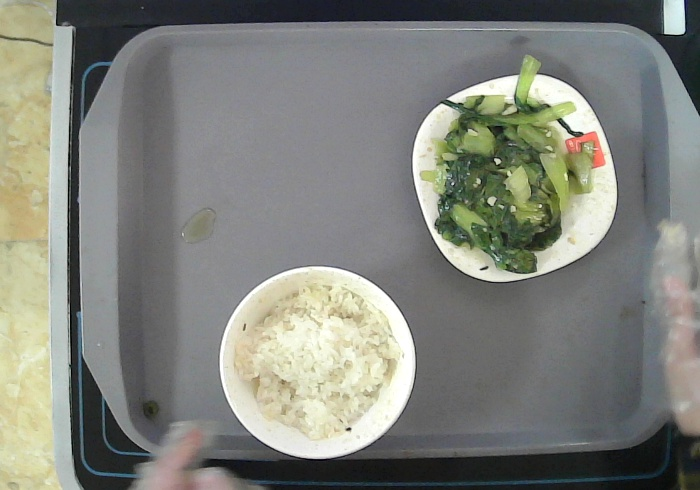SHKJ-Bai_Se_Si_Fang_Cai_Die: (409, 66, 621, 287)
SHKJ-Fan_Wan: (217, 265, 422, 464)
